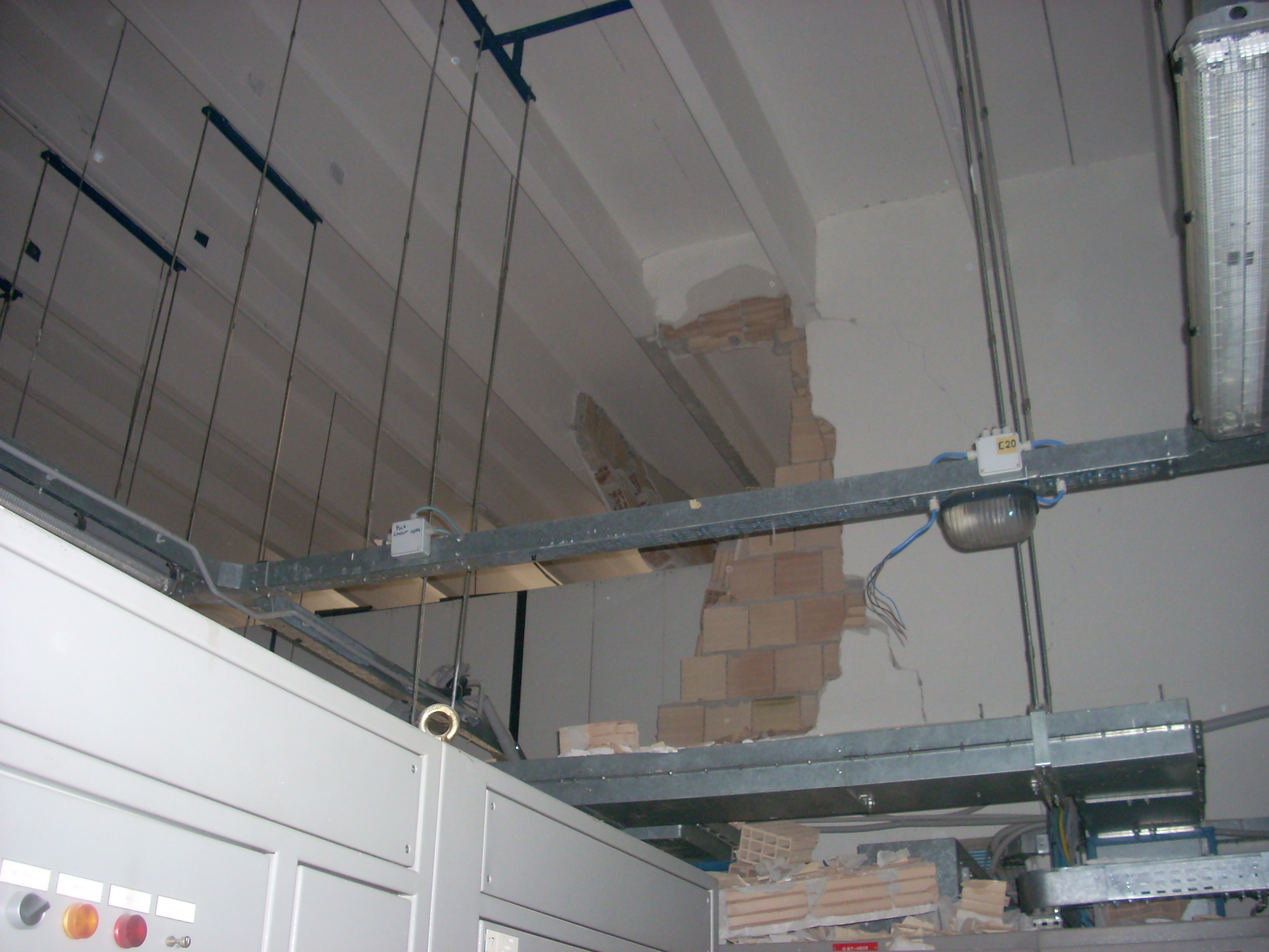Crack: (816, 307, 982, 434), (869, 614, 937, 723)
Debris: (703, 814, 1043, 949), (556, 718, 644, 753)
Other damage/mechanism: (570, 334, 799, 508), (591, 536, 749, 748)
Spalling: (656, 523, 871, 744), (655, 260, 844, 486)
